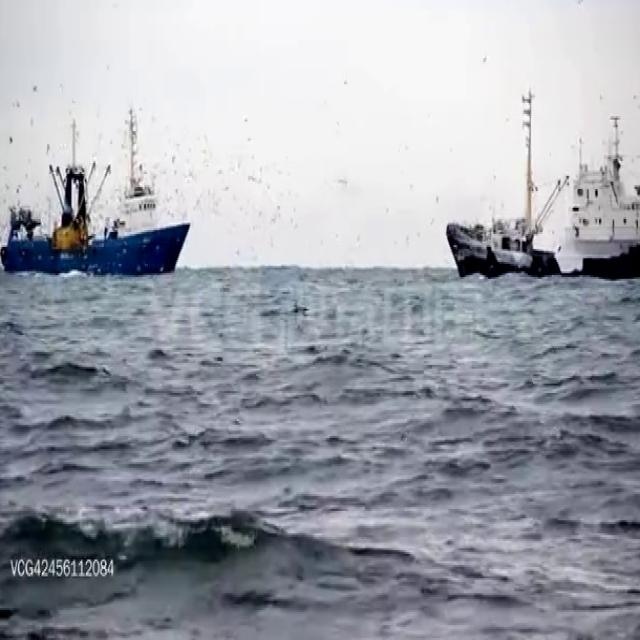houseboat: (447, 110, 640, 288), (0, 118, 190, 273)
